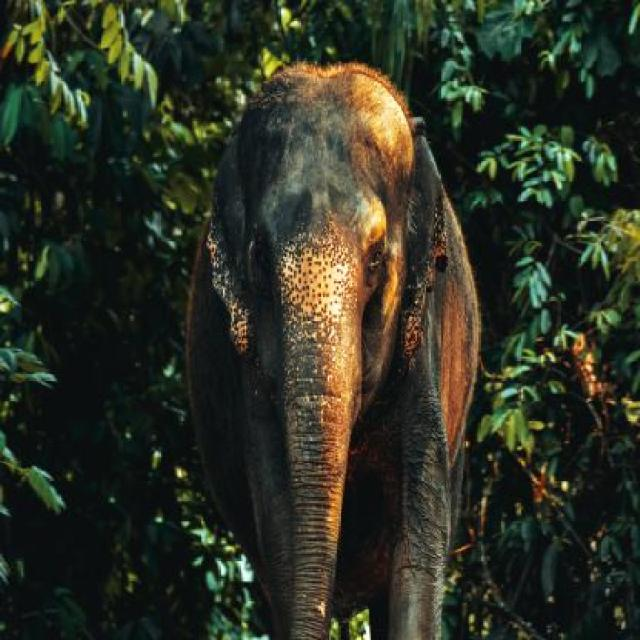Elephant: (189, 57, 483, 638)
